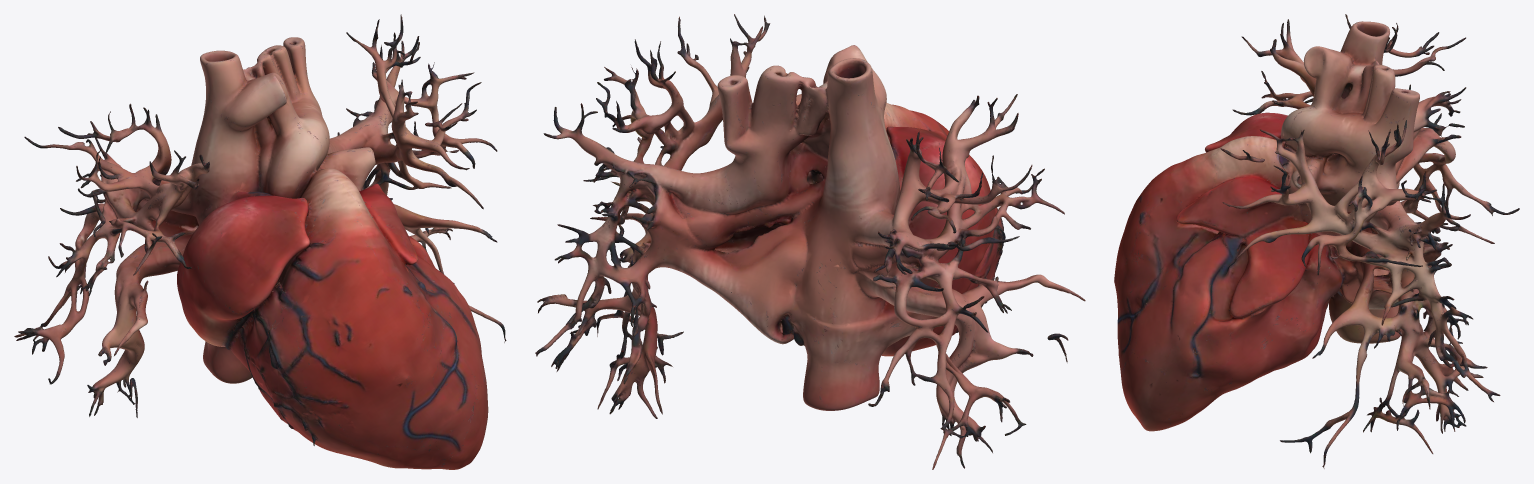
The model's file is heart_plain.glb.
3 views of the same model, side by side, from view 1: azimuth 30°, elevation 25°; view 2: azimuth 150°, elevation 25°; view 3: azimuth 270°, elevation 25° (orthographic). The views are drawn at different scales.
Size of the model in its own units: 2 by 1.57 by 1.68.
1 material, 1 textured.
